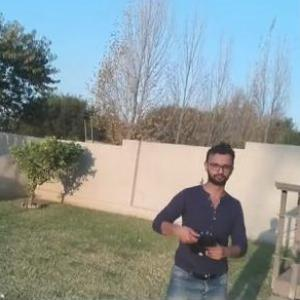follow: (147, 137, 252, 299)
